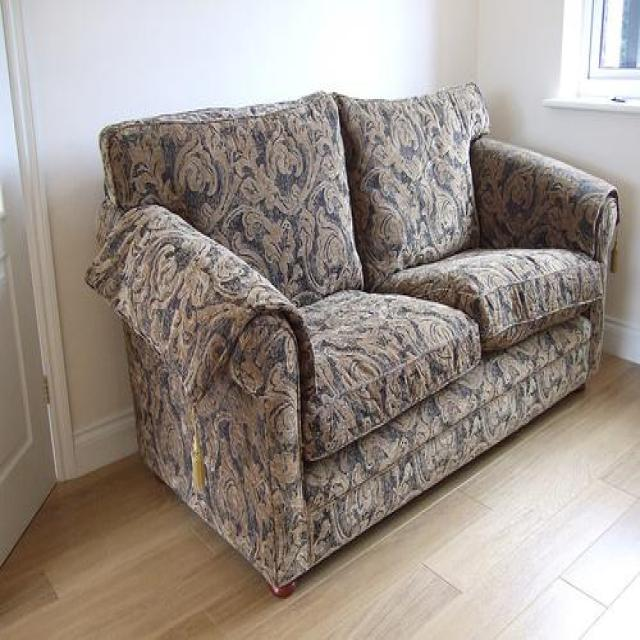sofa: (87, 76, 624, 598)
